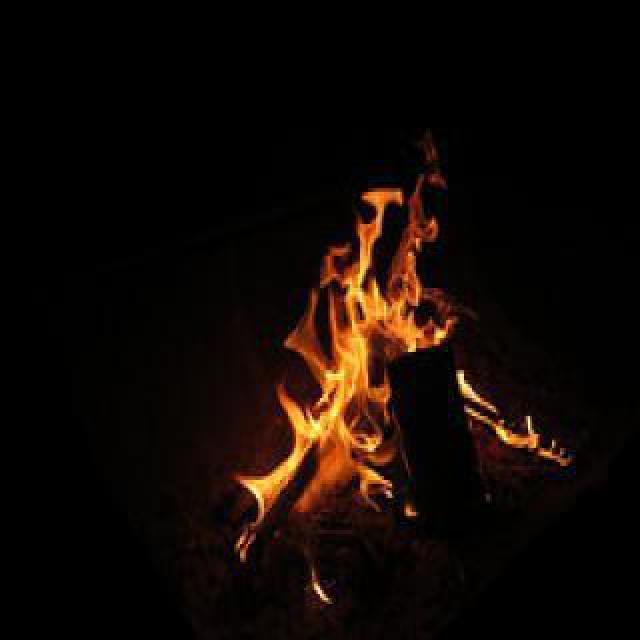Fire: (228, 150, 568, 578)
